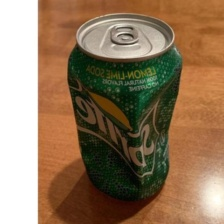can: (63, 10, 185, 203)
